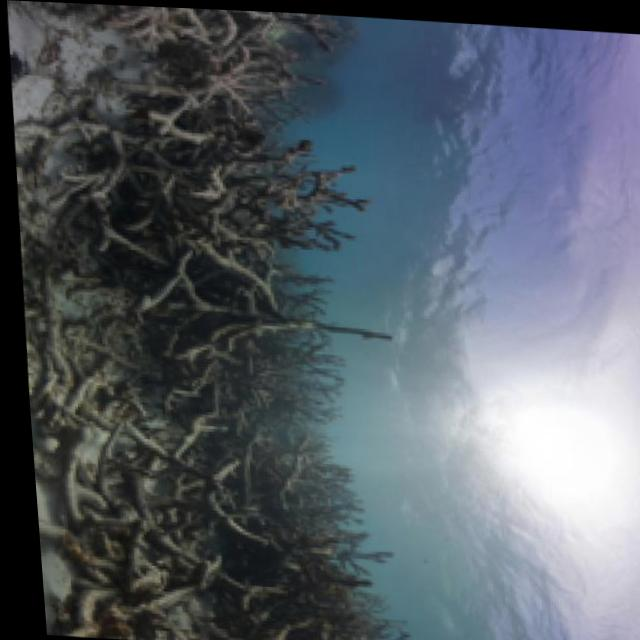Dead Coral: (51, 87, 399, 361), (52, 437, 394, 640), (49, 2, 380, 115)
